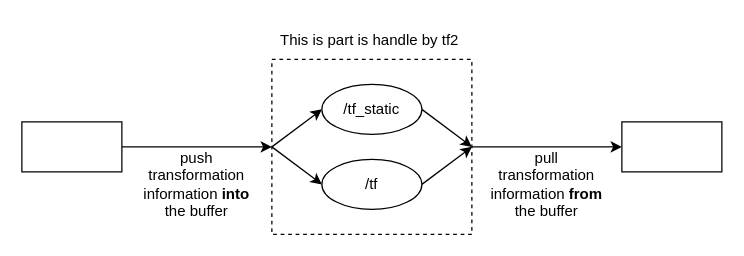
This 744x256 diagram has some shape labels left out. The shapes that lost their labels are listed below. From the top down, each one's box as (x1, y1, x2, y2) in pixels, then its label:
(21, 121, 122, 172): Broadcaster
(621, 121, 722, 172): Listener
